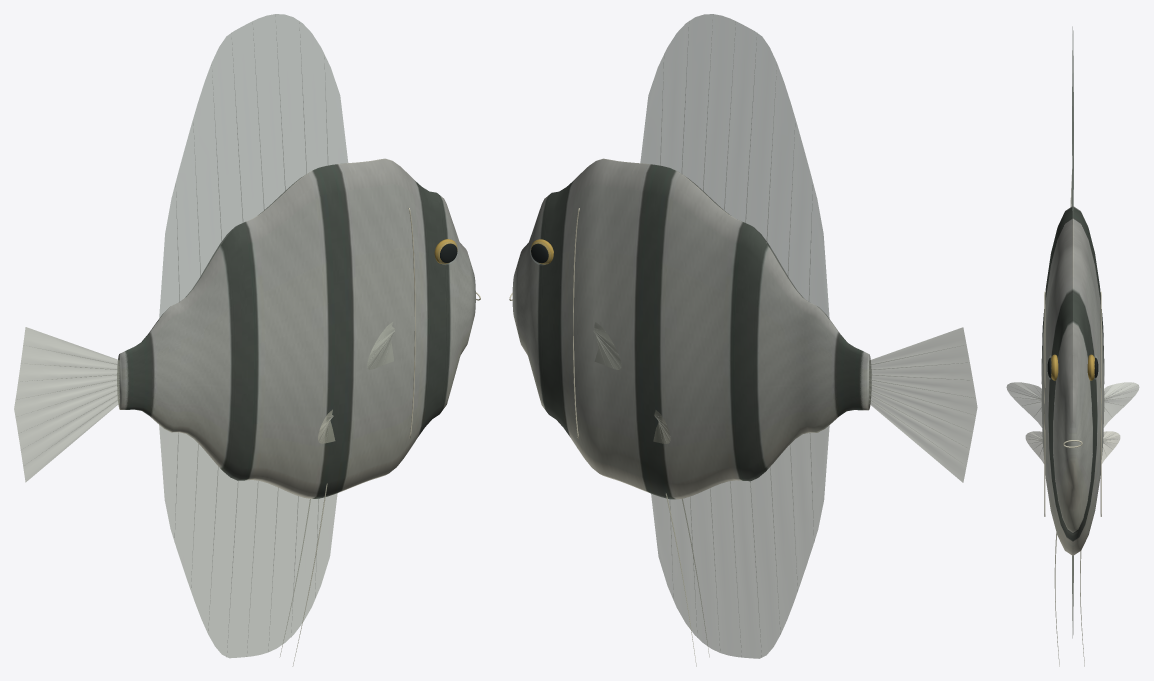
File: angelfish-mobile.glb
3 views of the same model, side by side, from view 1: azimuth 30°, elevation 25°; view 2: azimuth 150°, elevation 25°; view 3: azimuth 270°, elevation 25° (orthographic). The views are drawn at different scales.
Visible parts, largest first — view 1: skin, dorsal, anal, tail, dorsal-ray, pelvic-left, pectoral-left; view 2: skin, dorsal, anal, tail, dorsal-ray, pelvic-left, pectoral-left; view 3: skin, pectoral-left, pelvic-left, operculum, dorsal, eye-iris--1, dorsal-ray.
Part boxes in pixels (x1=…): skin: x1=117, y1=158, x2=475, y2=498; dorsal: x1=159, y1=14, x2=348, y2=319; anal: x1=159, y1=425, x2=337, y2=658; tail: x1=14, y1=327, x2=119, y2=482; dorsal-ray: x1=17, y1=14, x2=394, y2=656; pelvic-left: x1=279, y1=409, x2=335, y2=666; pectoral-left: x1=367, y1=322, x2=394, y2=369; skin: x1=512, y1=158, x2=871, y2=499; dorsal: x1=640, y1=14, x2=829, y2=319; anal: x1=651, y1=425, x2=829, y2=658; tail: x1=869, y1=327, x2=977, y2=482; dorsal-ray: x1=593, y1=14, x2=957, y2=657; pelvic-left: x1=653, y1=410, x2=709, y2=666; pectoral-left: x1=593, y1=322, x2=621, y2=369; skin: x1=1041, y1=206, x2=1104, y2=555; pectoral-left: x1=1006, y1=382, x2=1139, y2=427; pelvic-left: x1=1025, y1=431, x2=1120, y2=666; operculum: x1=1044, y1=291, x2=1101, y2=516; dorsal: x1=1072, y1=26, x2=1073, y2=223; eye-iris--1: x1=1051, y1=354, x2=1094, y2=380; dorsal-ray: x1=1010, y1=383, x2=1135, y2=453.
Size of the model in its own units: 0.5972 by 0.8016 by 0.1523.
11 materials, 1 textured.
